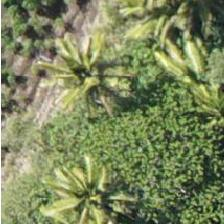coconut_tree: (33, 32, 123, 122), (54, 135, 144, 223), (159, 23, 223, 113)
